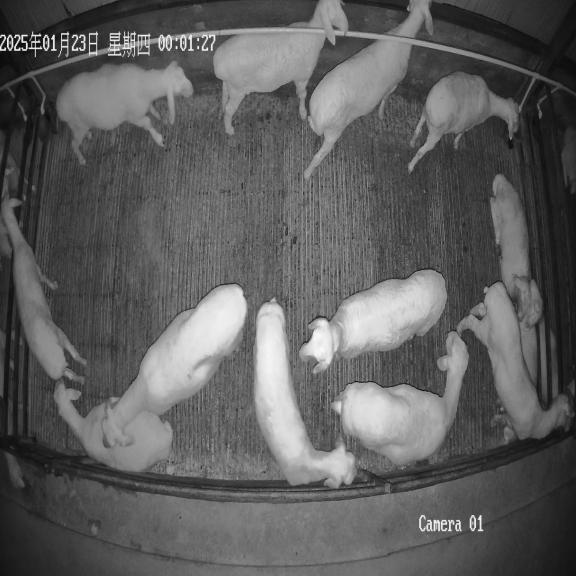drinking: (408, 71, 519, 171)
lying: (54, 381, 172, 472), (490, 174, 530, 321), (519, 280, 543, 384)
stand: (104, 284, 247, 447), (304, 0, 433, 178), (253, 298, 356, 488), (332, 331, 469, 466), (457, 282, 573, 440), (213, 0, 348, 135), (0, 198, 86, 382), (299, 270, 447, 373), (56, 61, 193, 165)
